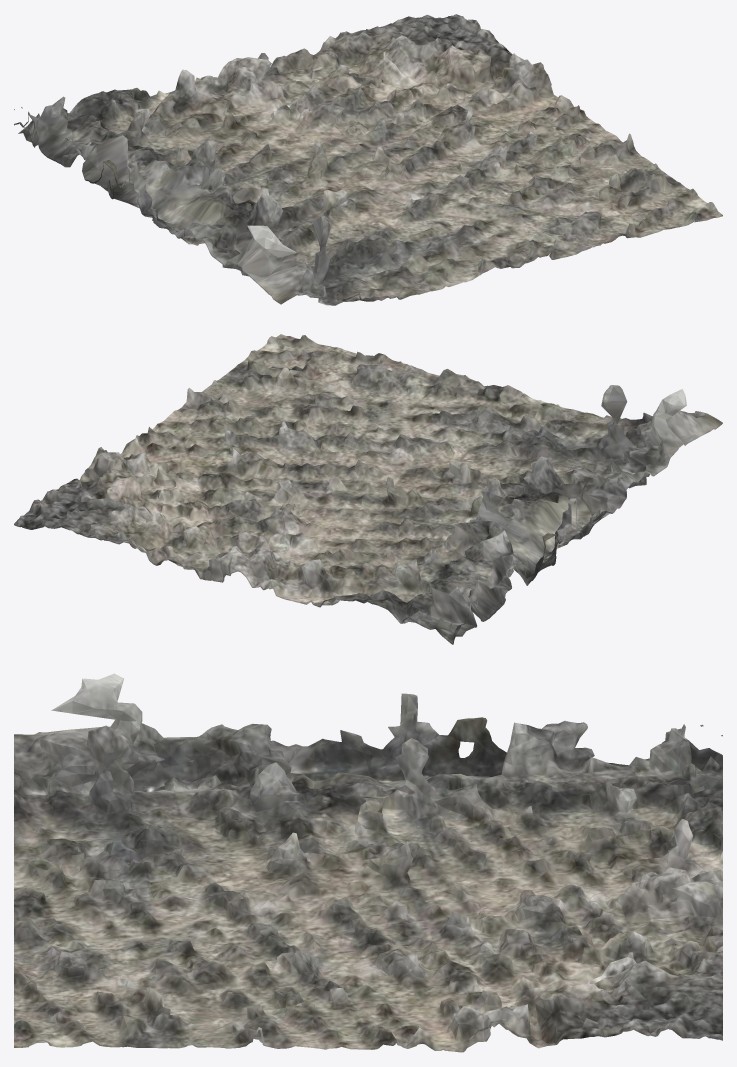
File: Block_L18_57.glb
3 views of the same model, one above another, from view 1: azimuth 30°, elevation 25°; view 2: azimuth 150°, elevation 25°; view 3: azimuth 270°, elevation 25° (orthographic). The views are drawn at different scales.
Parts seen in each view (by area): view 1: rtc; view 2: rtc; view 3: rtc.
Part boxes in pixels (x1,y1,x2,y2): rtc: (14, 14, 722, 305); rtc: (14, 334, 722, 644); rtc: (14, 673, 722, 1052).
Size of the model in its own units: 40.52 by 6.72 by 42.33.
Materials: 5 (5 with a texture image).
